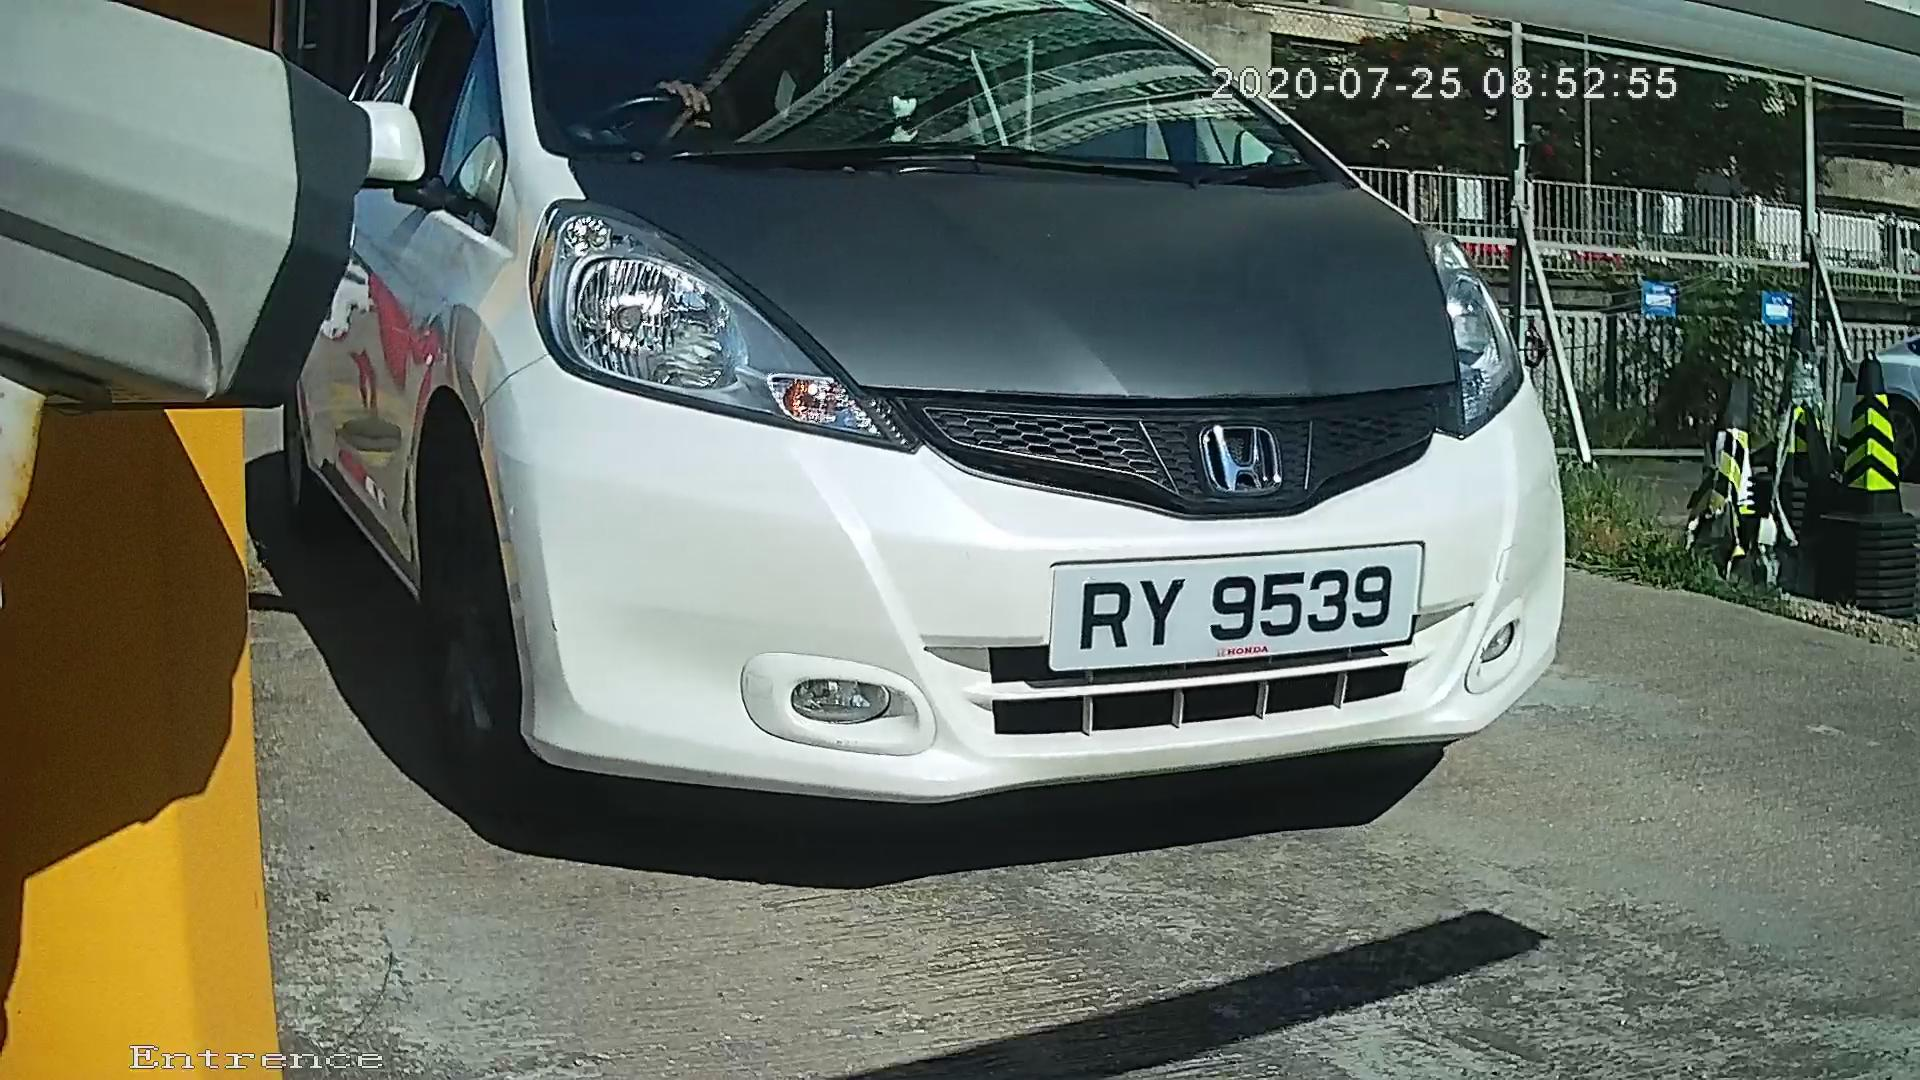License Plate: (1012, 531, 1441, 685)
